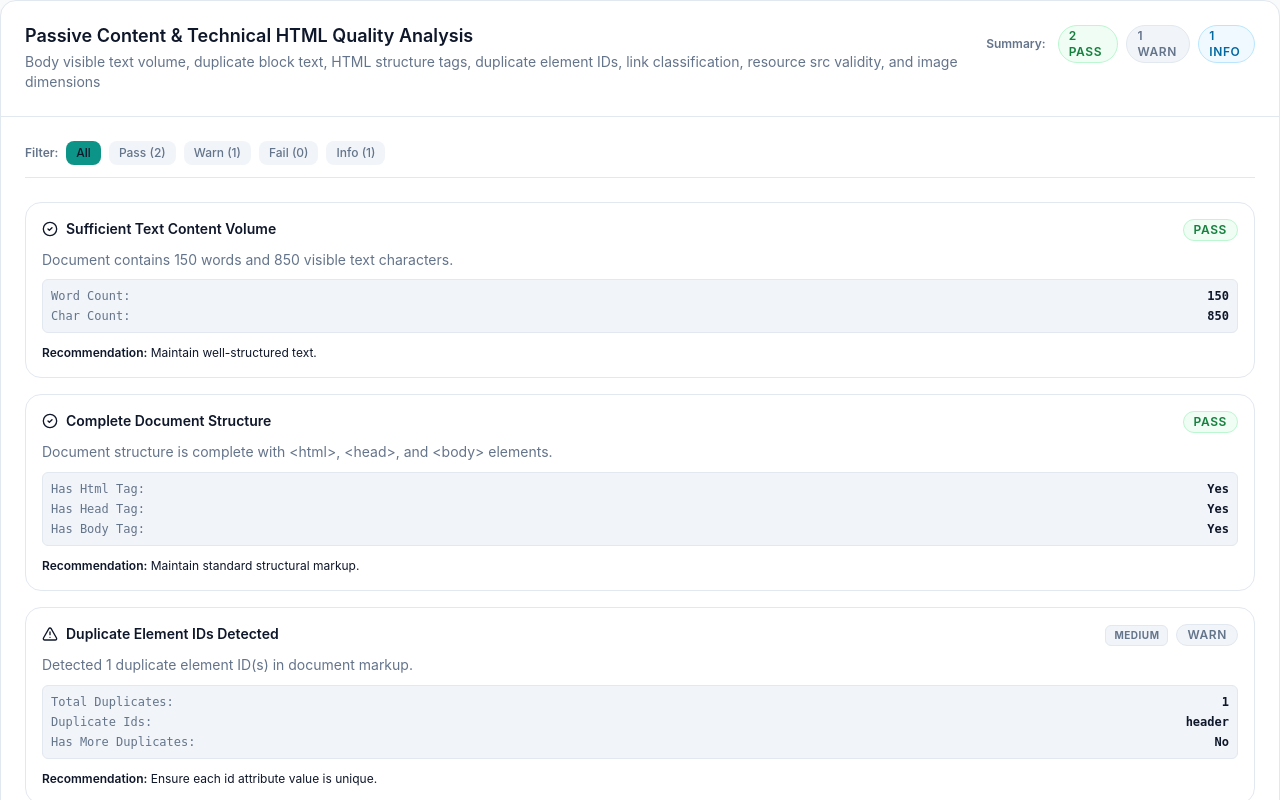
Test case: ContentQualityCard Component Suite (M7) › filters findings when filter tabs are clicked
// Click Pass filter tab
Click the button "pass (2)".
click(142, 152)  # box [109,140,176,164]
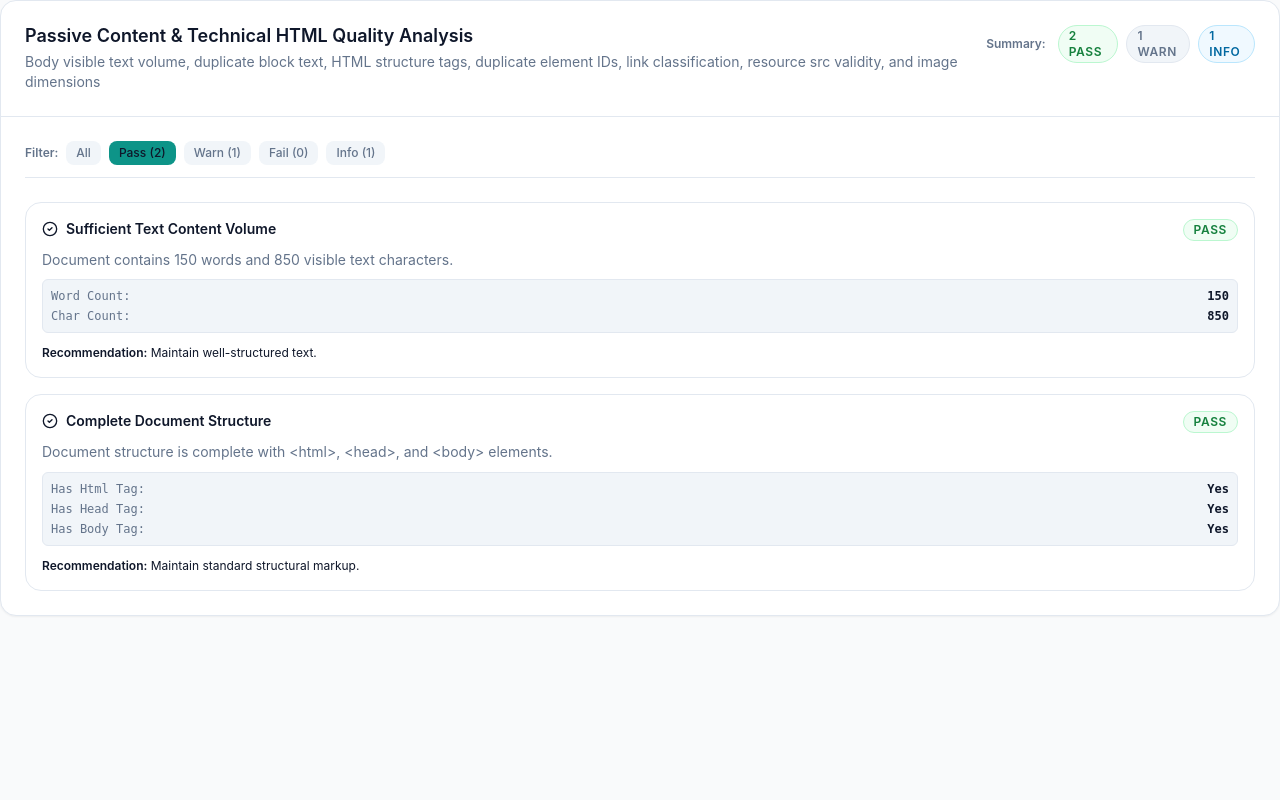
Check: the heading "Sufficient Text Content Volume" is shown, box [66,218,276,238]
Check: the heading "Duplicate Element IDs Detected" is gone
// Click Warn filter tab
Click the button "warn (1)".
click(217, 152)  # box [184,140,251,164]
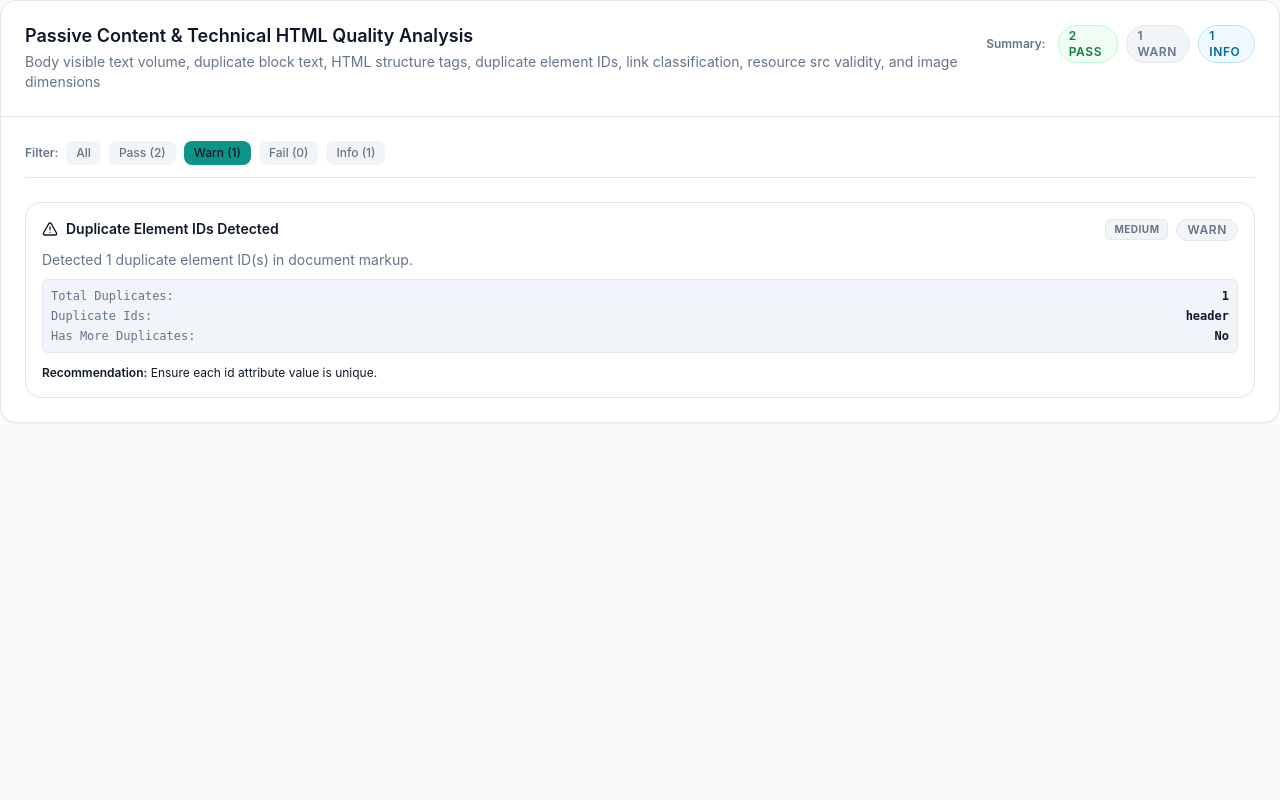
Check: the heading "Duplicate Element IDs Detected" is shown, box [66,218,279,238]
Check: the heading "Sufficient Text Content Volume" is gone
